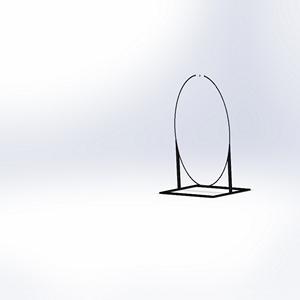circle: (158, 72, 253, 200)
